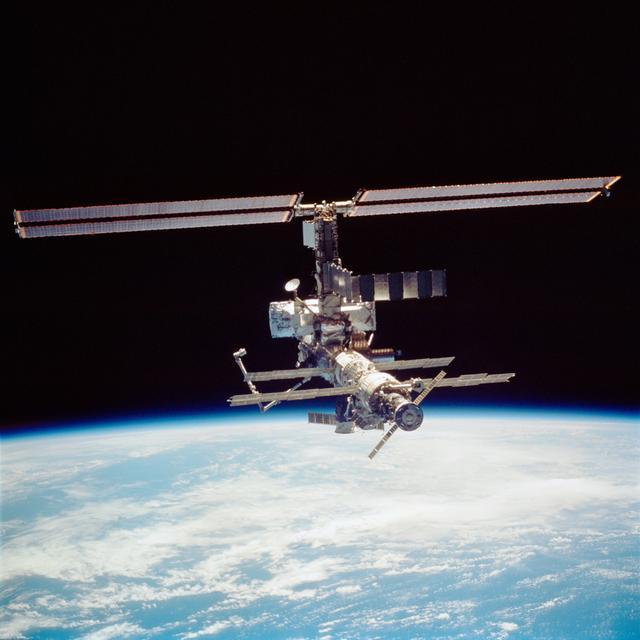medium_debris: (15, 176, 618, 457)
